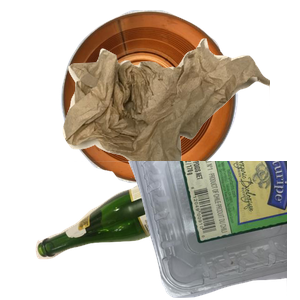glass: (33, 158, 246, 300)
metal: (58, 10, 289, 186)
plastic: (60, 161, 300, 300)
trash: (60, 36, 300, 198)
